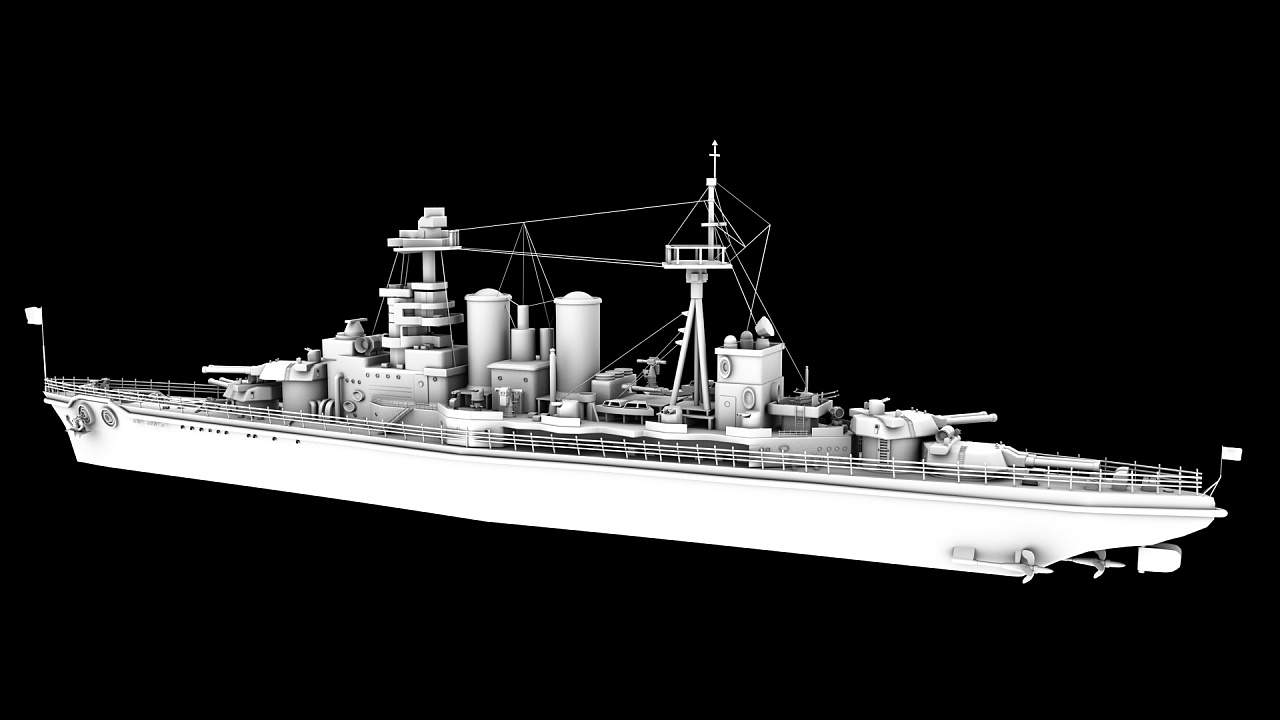warship: (43, 177, 1238, 597)
